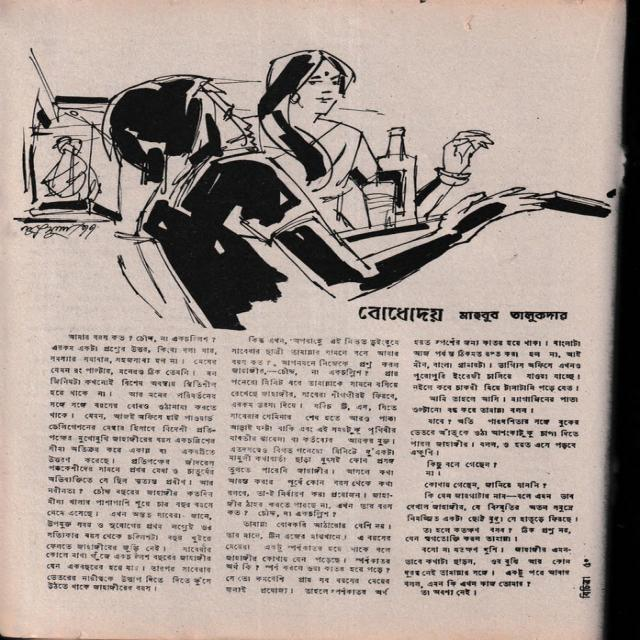image: (1, 26, 617, 333)
page number: (578, 557, 595, 569)
paragraph: (32, 331, 224, 597), (220, 334, 404, 520), (406, 332, 584, 415), (220, 519, 394, 598), (397, 542, 578, 599), (398, 488, 584, 543), (405, 414, 584, 459), (420, 458, 506, 478), (422, 479, 553, 491)
text: (454, 306, 573, 326), (576, 575, 594, 604)
title: (344, 301, 450, 328)
